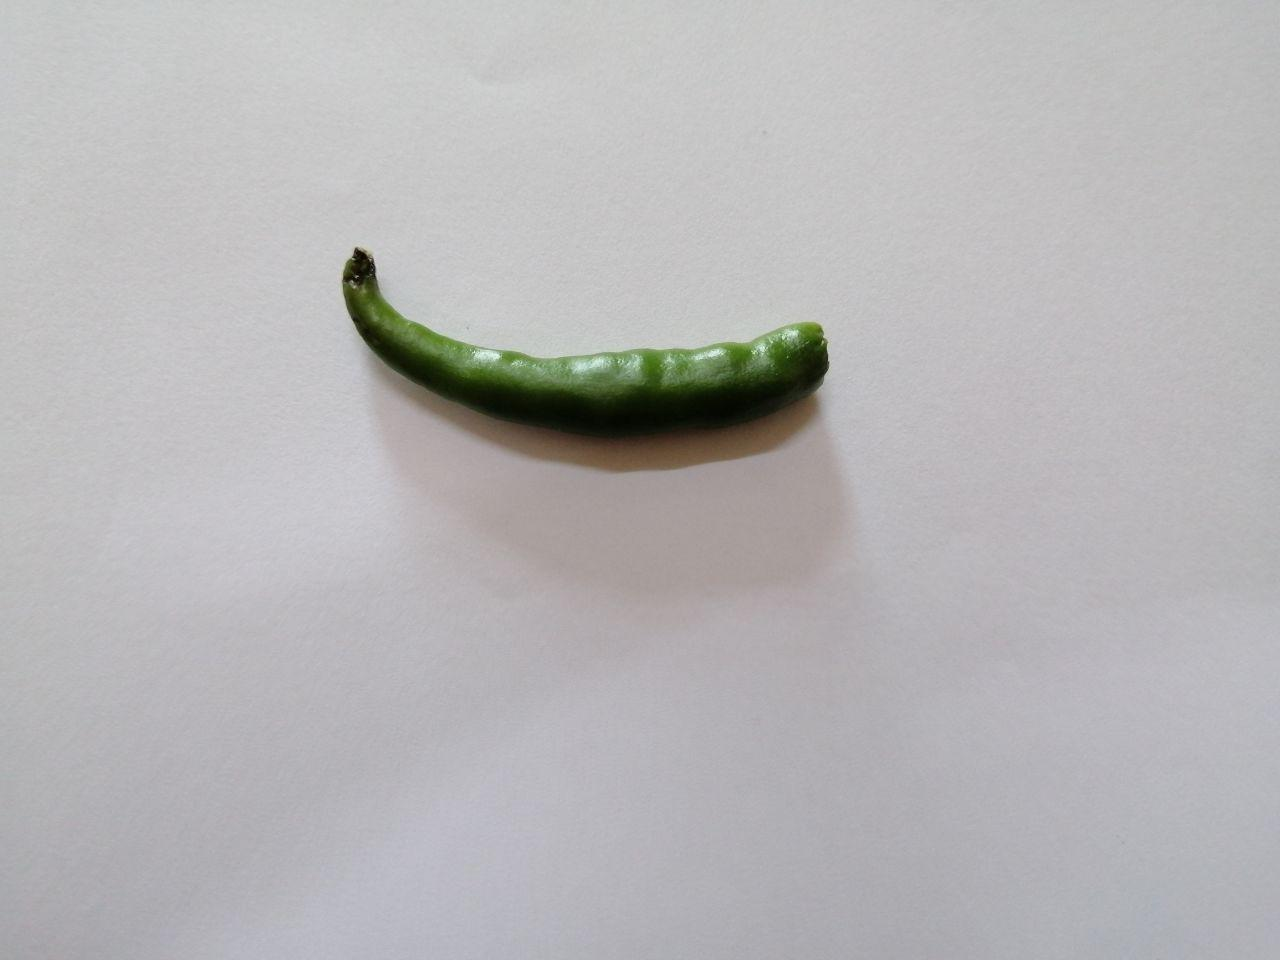lada hijau: (328, 234, 868, 436)
